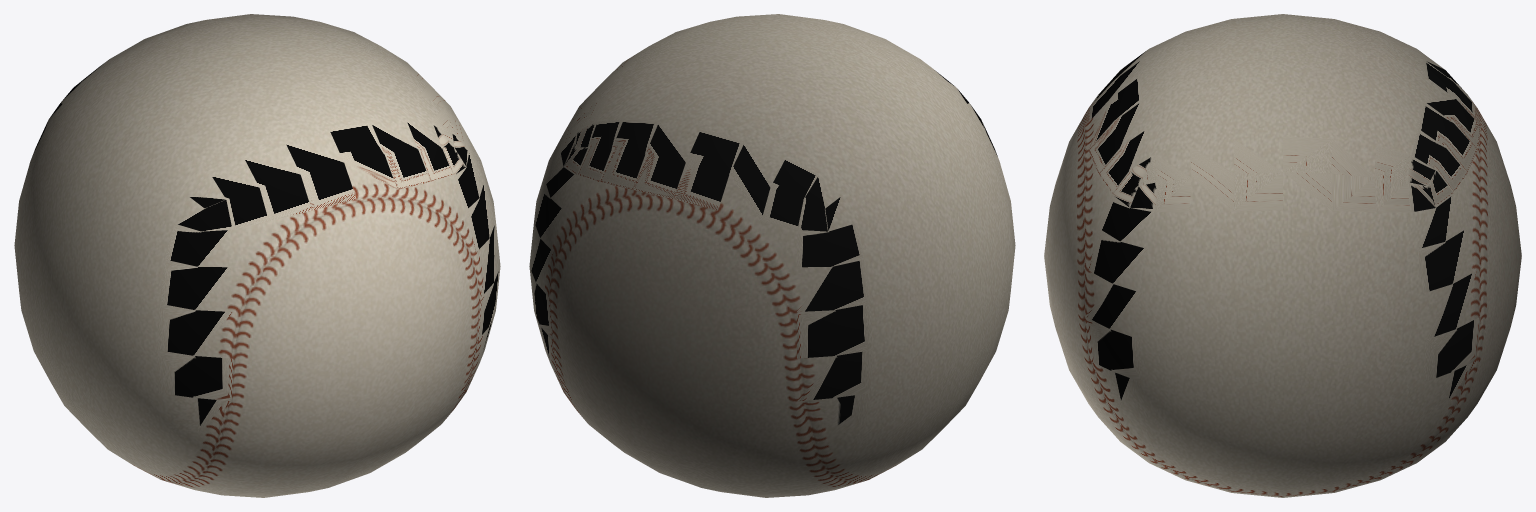
File: baseball.fbx
3 views of the same model, side by side, from view 1: azimuth 30°, elevation 25°; view 2: azimuth 150°, elevation 25°; view 3: azimuth 270°, elevation 25° (orthographic).
Visible parts, largest first — view 1: 10483_baseball_v1_L3; view 2: 10483_baseball_v1_L3; view 3: 10483_baseball_v1_L3.
Boxes of the visible parts, x1,y1,x2,y2 form: 10483_baseball_v1_L3: [14, 14, 500, 497]; 10483_baseball_v1_L3: [529, 14, 1015, 497]; 10483_baseball_v1_L3: [1044, 14, 1521, 497].
Size of the model in its own units: 903 by 903 by 903.
